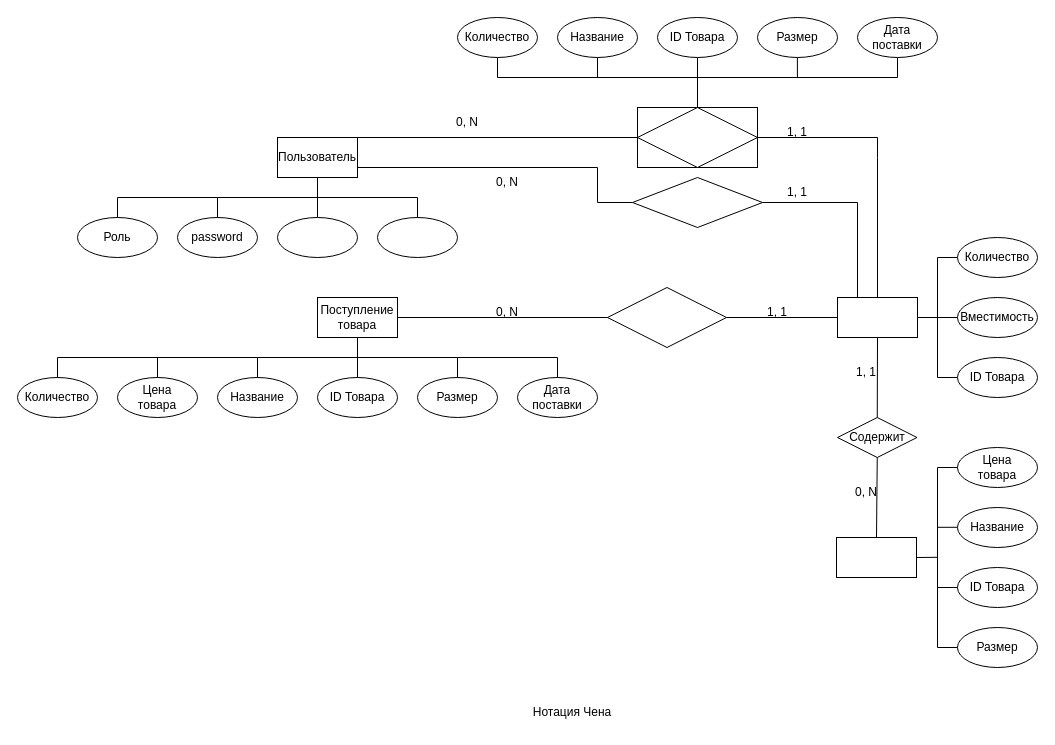
The diagram is 1055 pixels wide and 745 high, and some of its shapes have lost their labels. The box of each missing label's shape, as (x1, y1, x2, y2) in pixels:
emal: (376, 216, 458, 258)
Добавление Удаление: (636, 106, 758, 168)
Происходит на: (606, 286, 726, 348)
Просматривает: (632, 176, 762, 228)
Склад: (836, 296, 918, 338)
Товар: (836, 536, 916, 578)
ФИО: (276, 216, 358, 258)
